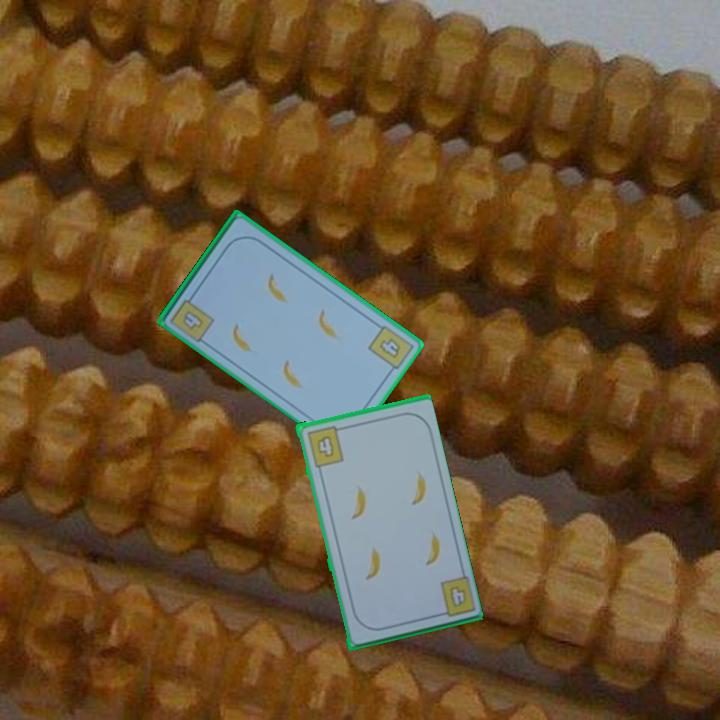4b: (364, 321, 414, 377), (432, 572, 477, 619), (303, 422, 346, 469), (179, 306, 207, 333)
